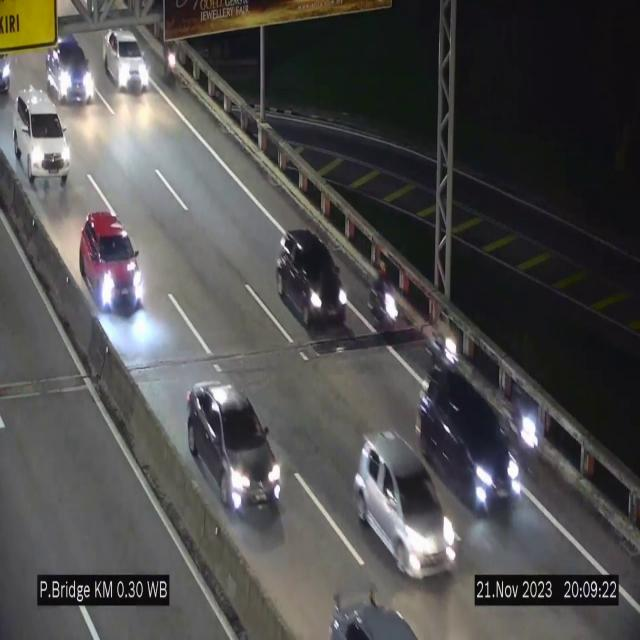Car: (426, 365, 520, 529), (353, 432, 457, 579), (186, 381, 282, 537), (274, 226, 348, 338), (79, 210, 143, 308), (14, 90, 69, 188), (47, 35, 95, 103), (102, 28, 150, 90)
Motorcycle: (370, 254, 404, 335), (515, 398, 542, 486), (157, 30, 179, 94), (437, 319, 457, 385)
